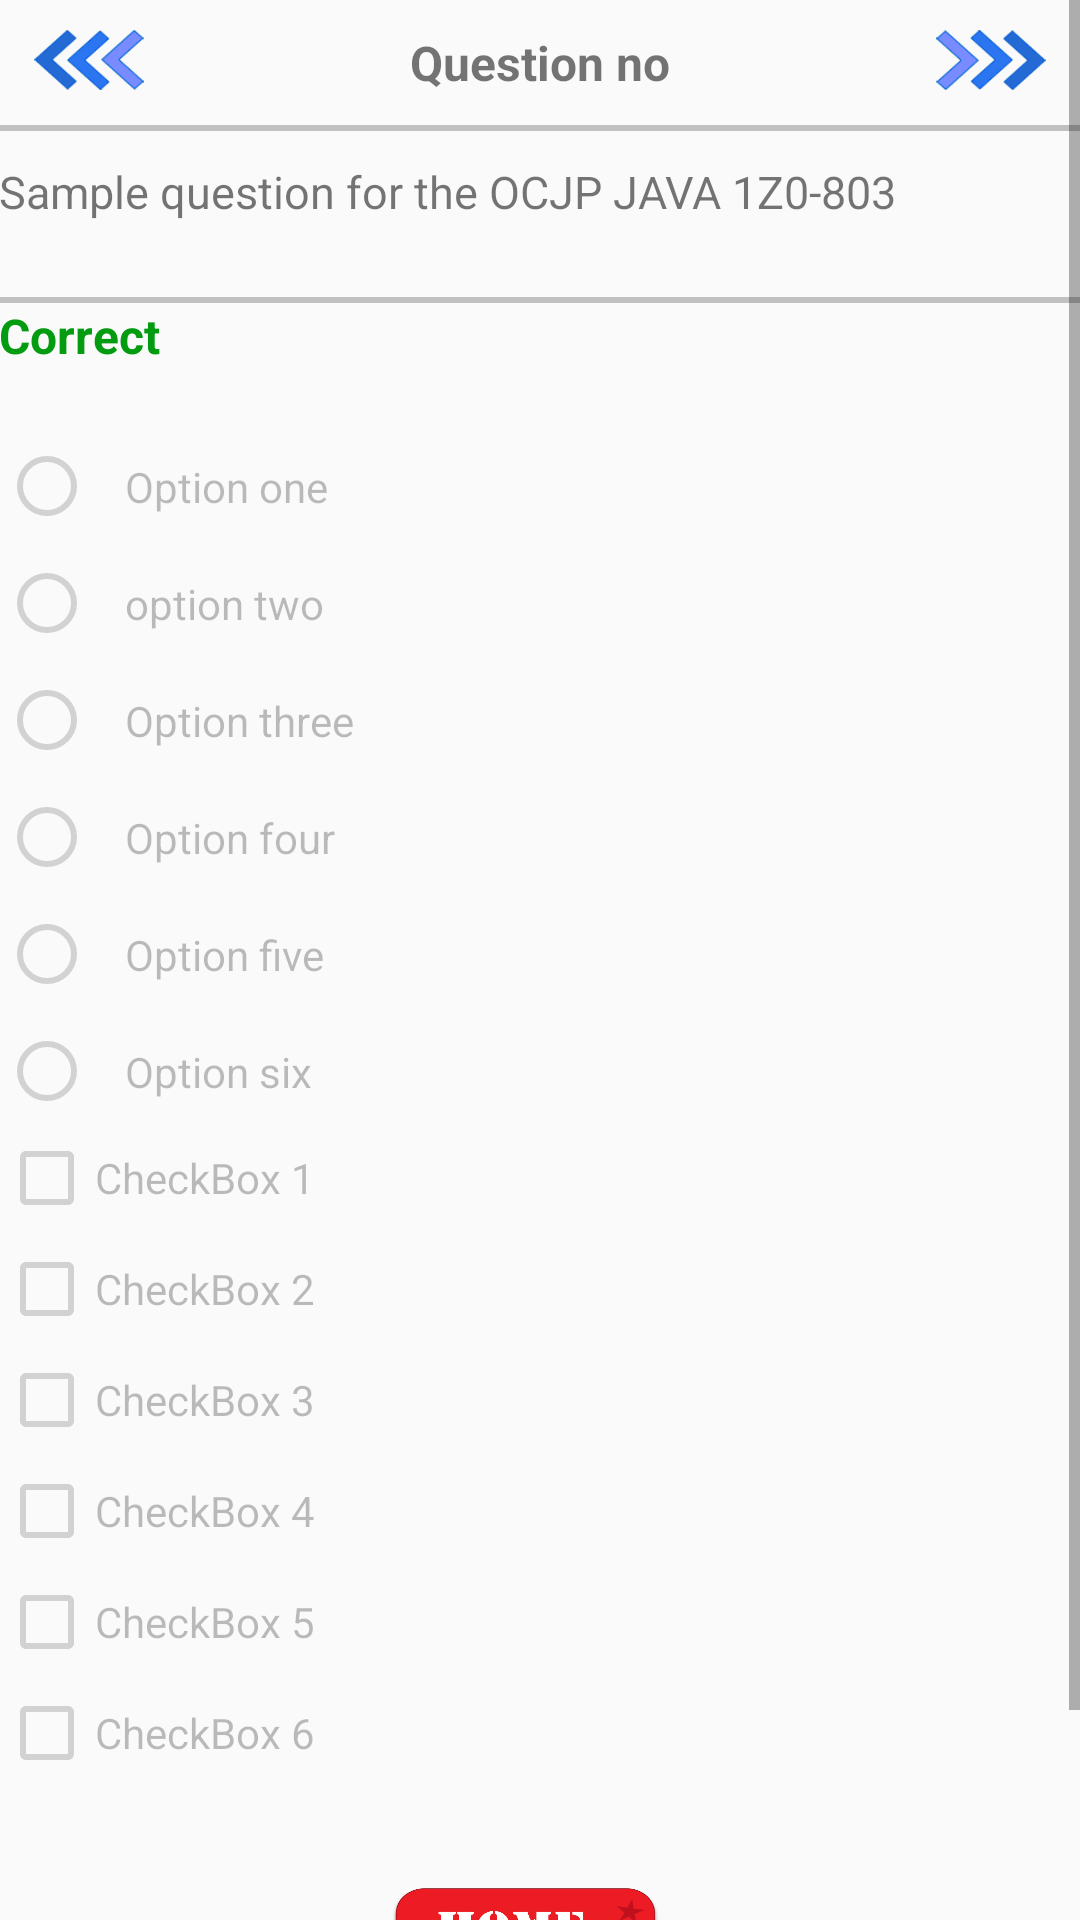

Point at icon controls on the screen. Image size 1080 × 1920, points as [x,y].
next: [991,60]
pre: [89,60]
